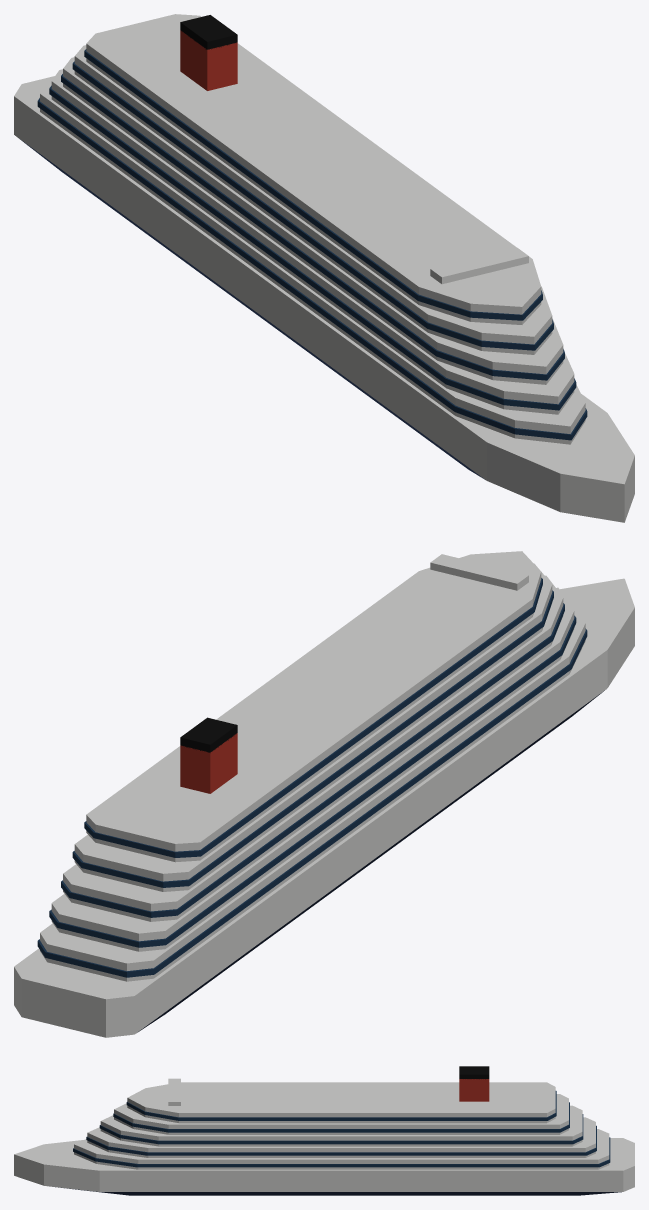
File: ship_passenger.glb
3 views of the same model, one above another, from view 1: azimuth 30°, elevation 25°; view 2: azimuth 150°, elevation 25°; view 3: azimuth 270°, elevation 25° (orthographic). The views are drawn at different scales.
Visible parts, largest first — view 1: ship_passenger; view 2: ship_passenger; view 3: ship_passenger.
Boxes of the visible parts, <box> form: ship_passenger: <box>14,14,634,522</box>; ship_passenger: <box>14,551,634,1037</box>; ship_passenger: <box>14,1066,634,1195</box>.
Size of the model in its own units: 36 by 57.25 by 290.
